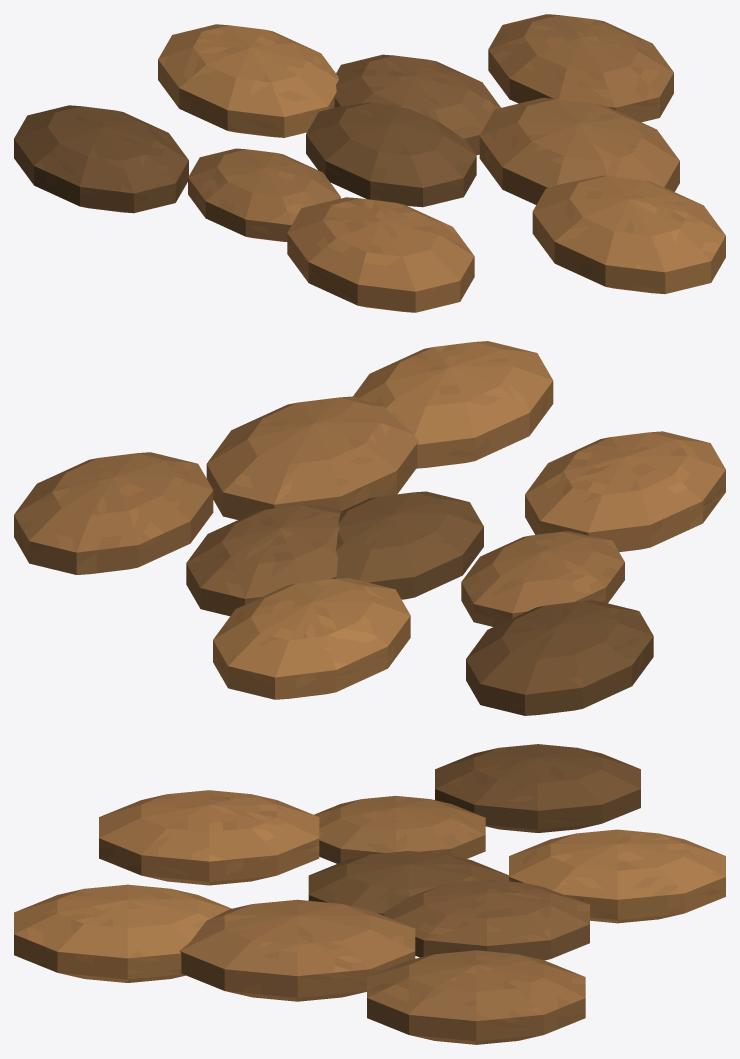
The model's file is seed_blueberries.glb.
3 renders of one model, top to bottom at view 1: azimuth 30°, elevation 25°; view 2: azimuth 150°, elevation 25°; view 3: azimuth 270°, elevation 25°, orthographic. The views are drawn at different scales.
Parts seen in each view (by area): view 1: block_grain 8, block_grain 5, block_grain 4, block_grain 3, block_grain 7, block_grain 6, block_grain 0, block_grain 2, block_grain 1; view 2: block_grain 3, block_grain 6, block_grain 4, block_grain 5, block_grain 8, block_grain 7, block_grain 0, block_grain 1, block_grain 2; view 3: block_grain 3, block_grain 5, block_grain 6, block_grain 8, block_grain 4, block_grain 7, block_grain 1, block_grain 2, block_grain 0.
Boxes of the visible parts, box(x1,y1,x2,y2) form: block_grain 8: box(532, 175, 725, 293); block_grain 5: box(287, 197, 474, 312); block_grain 4: box(158, 24, 338, 137); block_grain 3: box(479, 98, 679, 204); block_grain 7: box(14, 105, 188, 213); block_grain 6: box(488, 14, 673, 122); block_grain 0: box(306, 102, 476, 207); block_grain 2: box(188, 148, 340, 241); block_grain 1: box(334, 54, 500, 154); block_grain 3: box(206, 396, 418, 519); block_grain 6: box(14, 452, 213, 574); block_grain 4: box(213, 578, 410, 699); block_grain 5: box(525, 431, 725, 551); block_grain 8: box(353, 341, 553, 468); block_grain 7: box(466, 600, 653, 715); block_grain 0: box(335, 491, 483, 599); block_grain 1: box(186, 504, 341, 616); block_grain 2: box(461, 531, 624, 626); block_grain 3: box(179, 899, 415, 1001); block_grain 5: box(99, 790, 319, 885); block_grain 6: box(367, 950, 585, 1044); block_grain 8: box(14, 884, 231, 982); block_grain 4: box(509, 829, 725, 923); block_grain 7: box(435, 744, 640, 832); block_grain 1: box(384, 879, 589, 960); block_grain 2: box(314, 796, 485, 863); block_grain 0: box(308, 851, 509, 915).
Size of the model in its own units: 0.0203 by 0.00241 by 0.022.
Materials: 1 (1 with a texture image).
